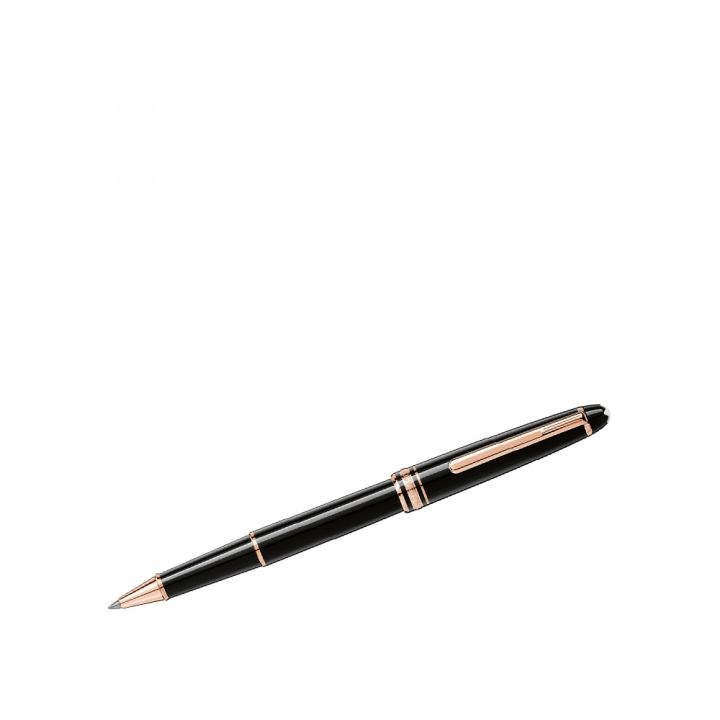pen: (97, 396, 618, 619)
